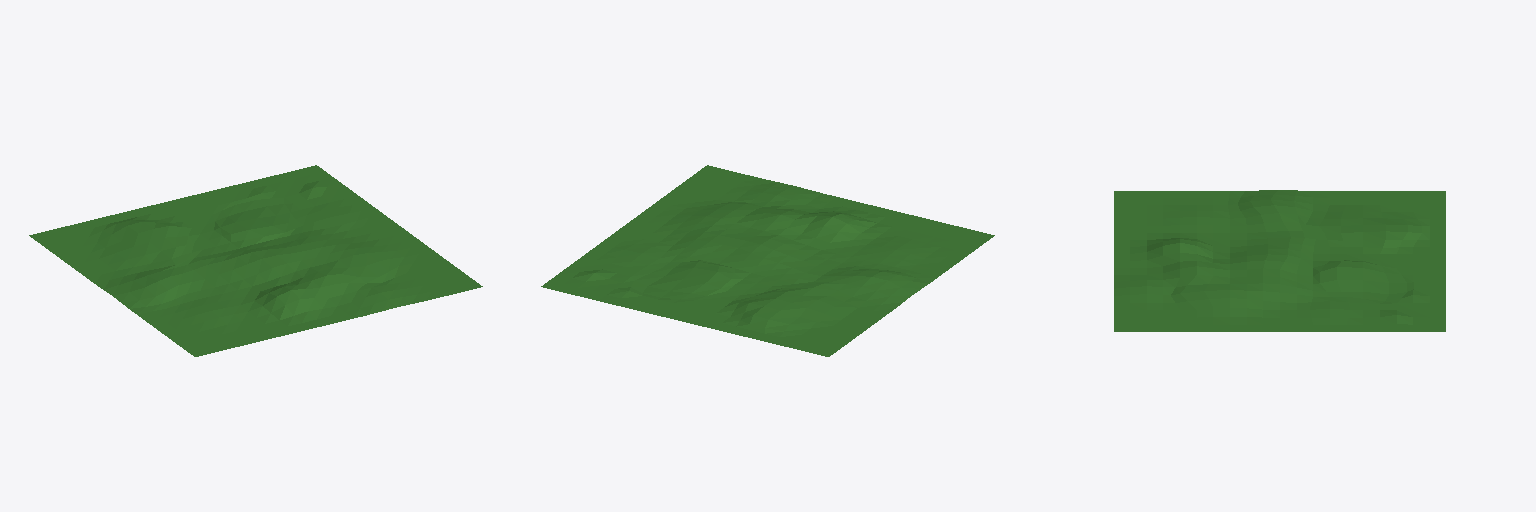
File: park.obj
3 renders of one model, left to right at view 1: azimuth 30°, elevation 25°; view 2: azimuth 150°, elevation 25°; view 3: azimuth 270°, elevation 25°, orthographic.
Visible parts, largest first — view 1: pPlane1; view 2: pPlane1; view 3: pPlane1.
Part boxes in pixels (left/top/right/bottom): pPlane1: left=29, top=165, right=482, bottom=356; pPlane1: left=541, top=165, right=994, bottom=356; pPlane1: left=1114, top=190, right=1445, bottom=331.
Bounding box in the file's own units: 2.27 × 0.0955 × 2.27.